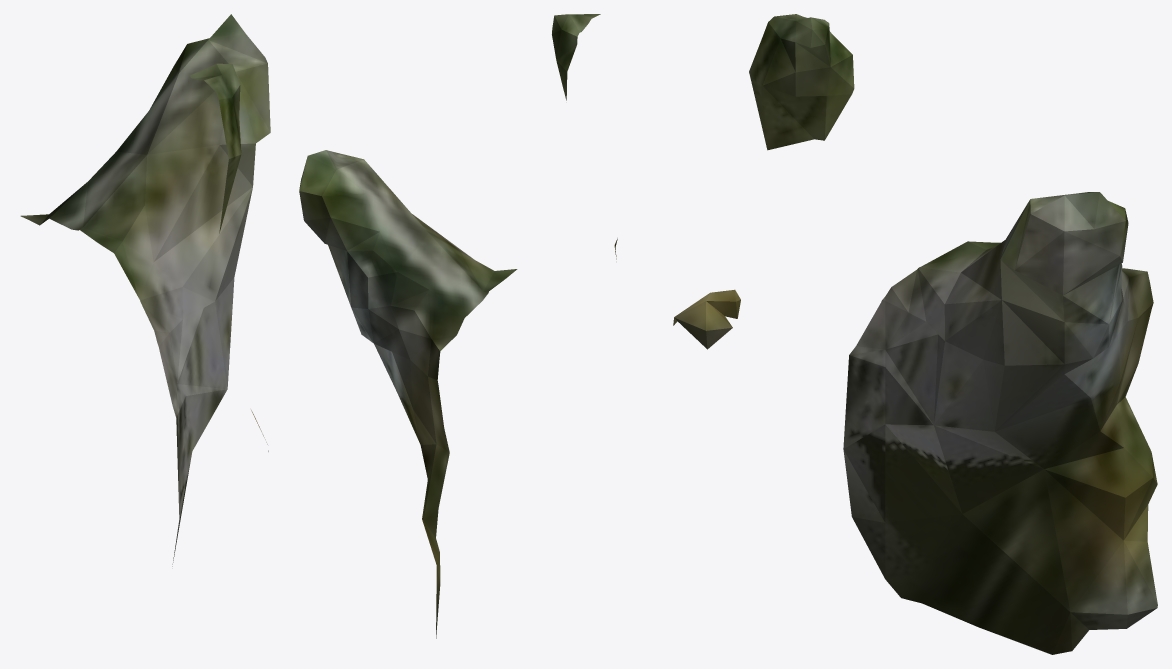
3 views of the same model, side by side, from view 1: azimuth 30°, elevation 25°; view 2: azimuth 150°, elevation 25°; view 3: azimuth 270°, elevation 25° (orthographic). The views are drawn at different scales.
Size of the model in its own units: 0.321 by 1.03 by 0.6993.
Materials: 1 (1 with a texture image).
